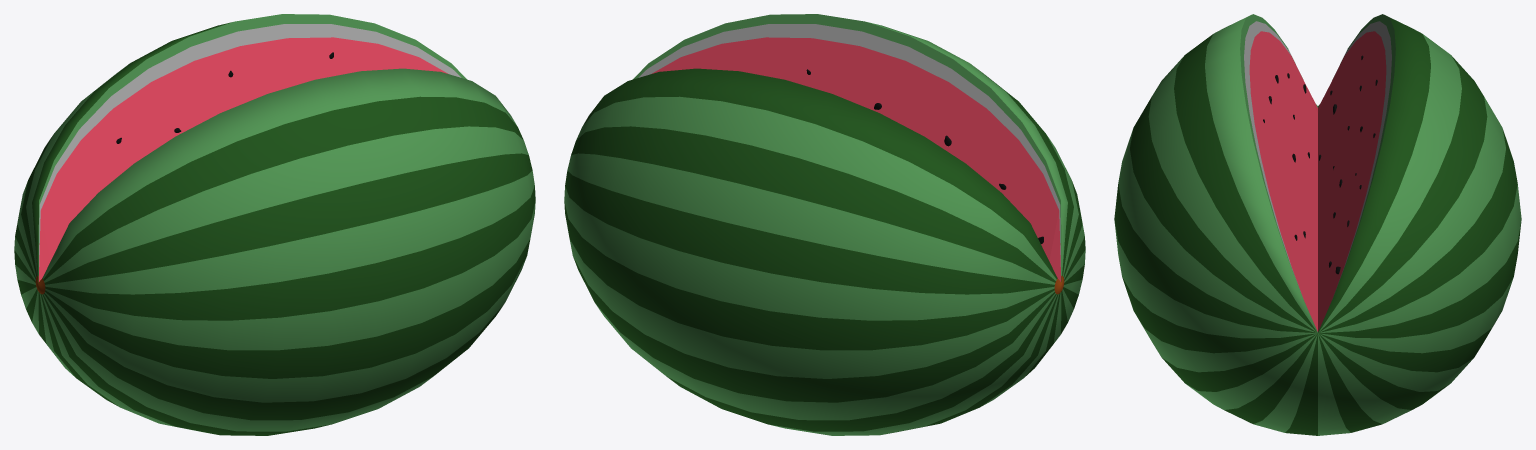
The model's file is AA2793_Melon_final.fbx.
3 views of the same model, side by side, from view 1: azimuth 30°, elevation 25°; view 2: azimuth 150°, elevation 25°; view 3: azimuth 270°, elevation 25° (orthographic). The views are drawn at different scales.
Parts seen in each view (by area): view 1: Melon; view 2: Melon; view 3: Melon.
Part boxes in pixels (x1,y1,x2,y2): Melon: [14, 14, 535, 435]; Melon: [564, 14, 1085, 435]; Melon: [1114, 14, 1521, 435].
Bounding box in the file's own units: 264 × 192 × 200.
